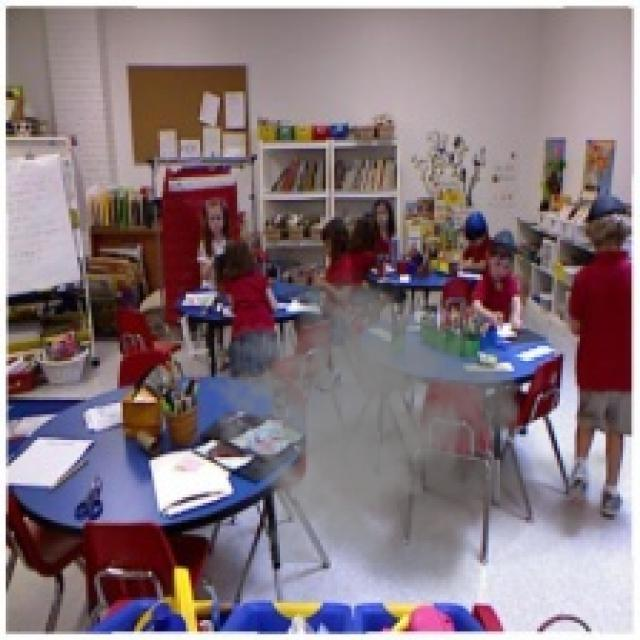Smoke: (206, 257, 632, 606)
